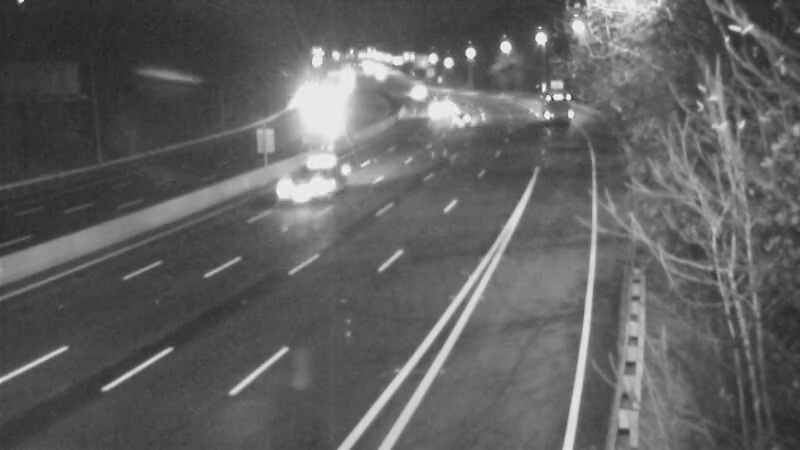vehicle: (257, 145, 337, 225), (392, 70, 442, 120), (525, 81, 575, 131), (414, 85, 464, 135), (433, 94, 483, 144)
